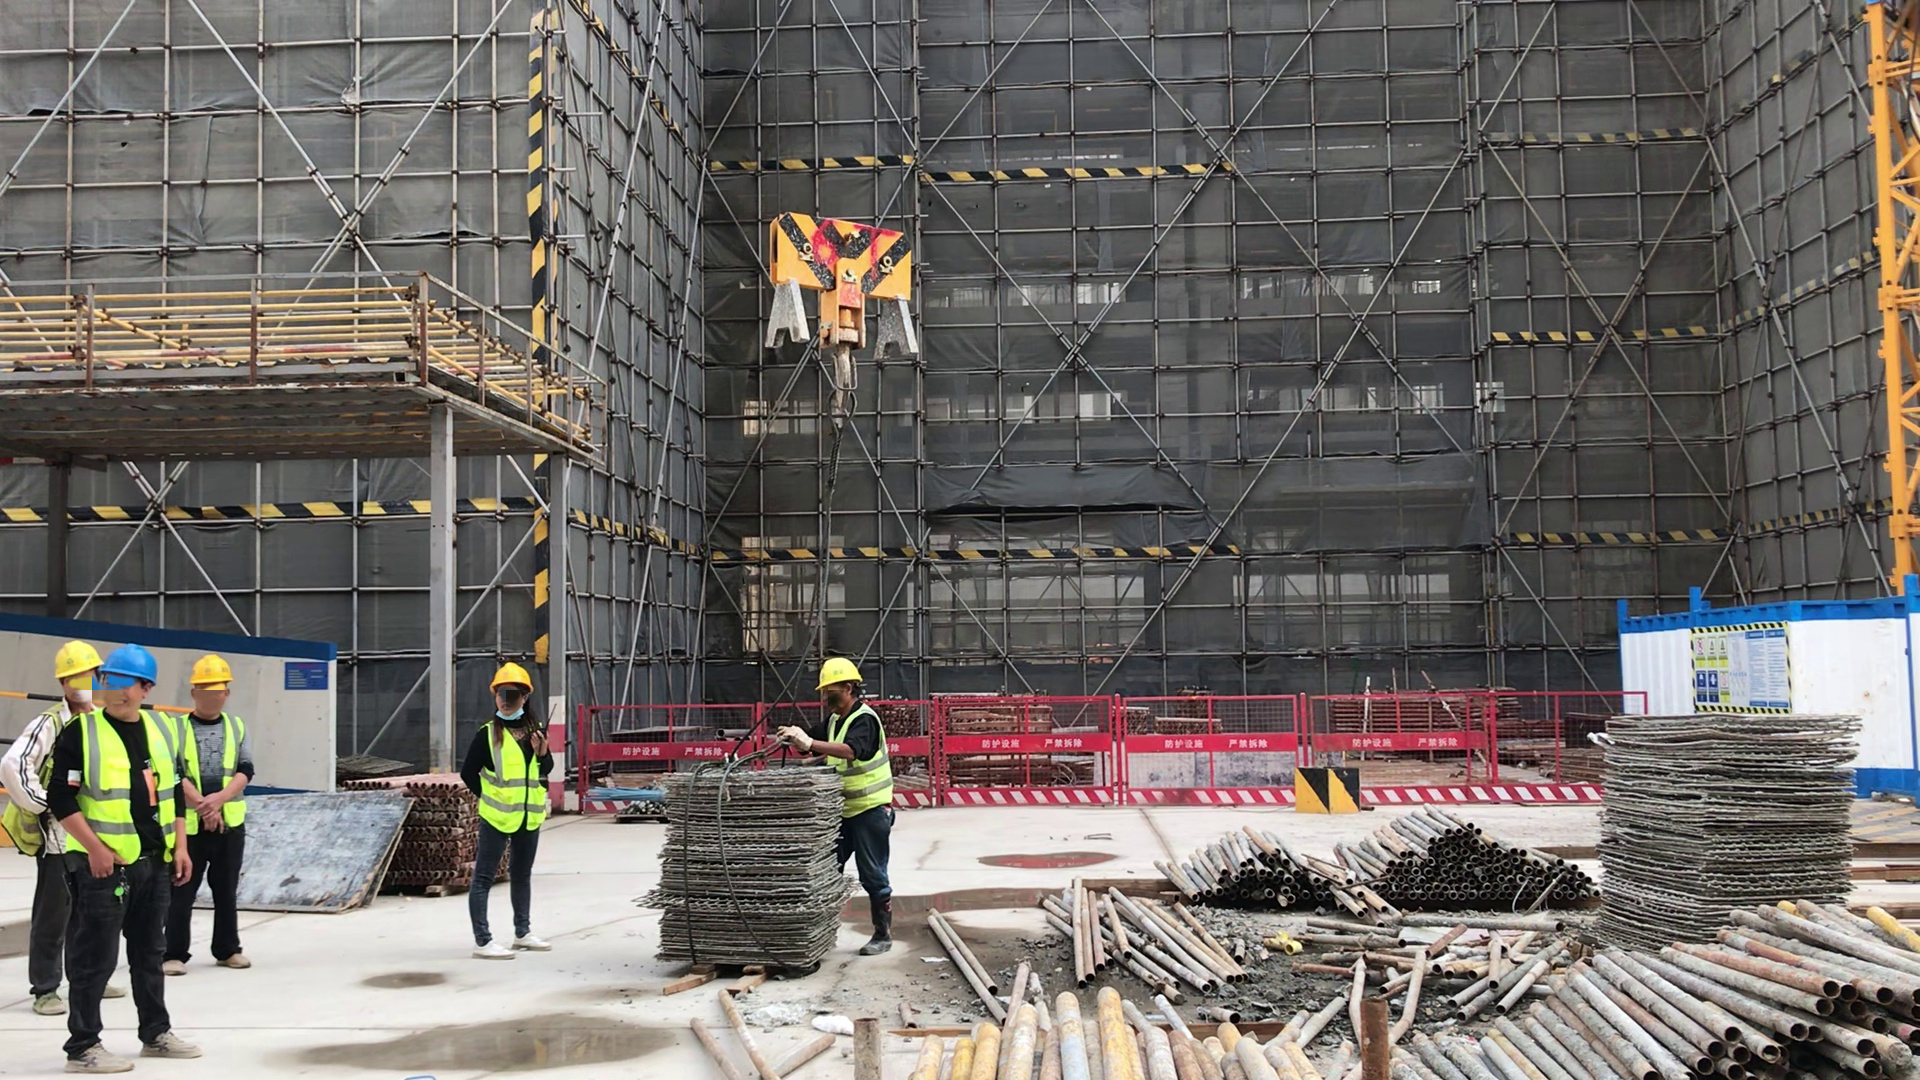fence: (574, 689, 1647, 816)
helmet: (98, 649, 159, 685), (54, 638, 96, 681), (815, 660, 863, 691), (185, 653, 228, 687), (489, 658, 532, 691)
hook: (767, 211, 929, 427)
person: (46, 641, 203, 1073), (1, 639, 126, 1015), (776, 657, 895, 956), (157, 657, 255, 976), (460, 662, 553, 959)
scaffold: (1601, 718, 1854, 942), (667, 774, 839, 961), (397, 780, 482, 900)
vest: (67, 711, 179, 856), (477, 720, 550, 834), (825, 708, 893, 823), (182, 714, 243, 835)
